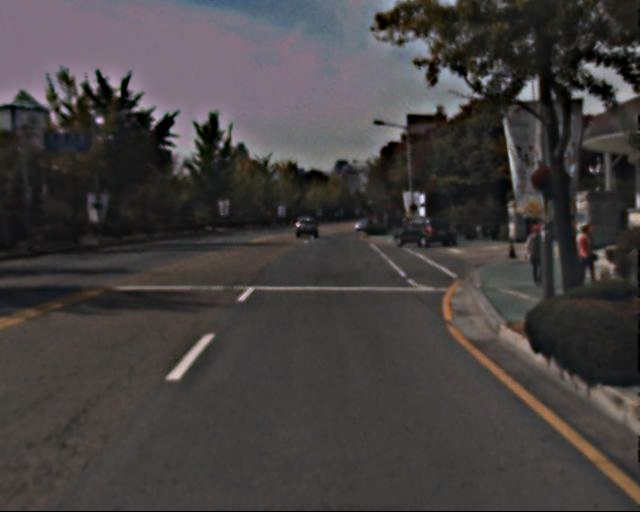person: (568, 223, 596, 292), (525, 220, 553, 288)
